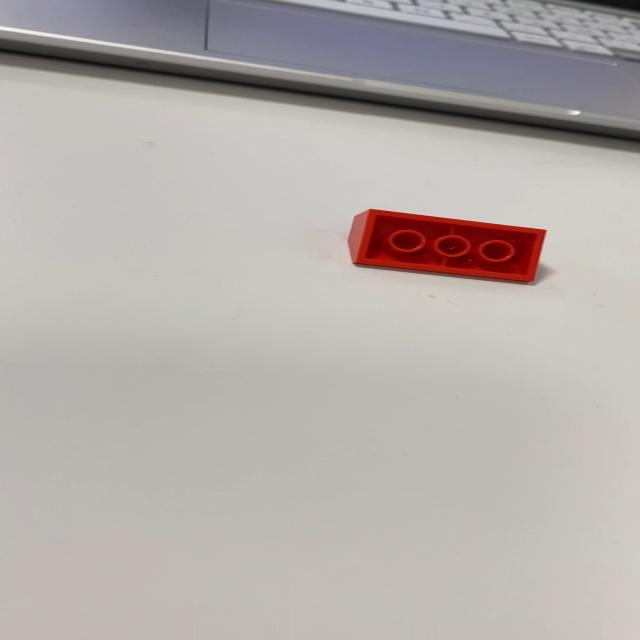P4x2x1: (346, 207, 546, 283)
